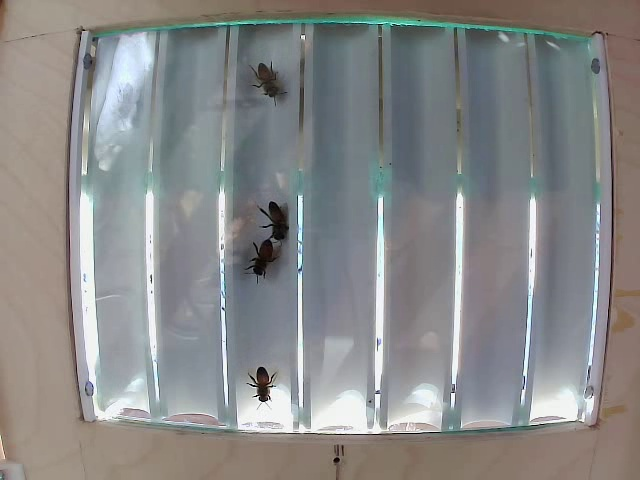bee: (249, 54, 296, 106), (258, 192, 294, 251), (239, 236, 271, 280), (241, 365, 272, 403)
